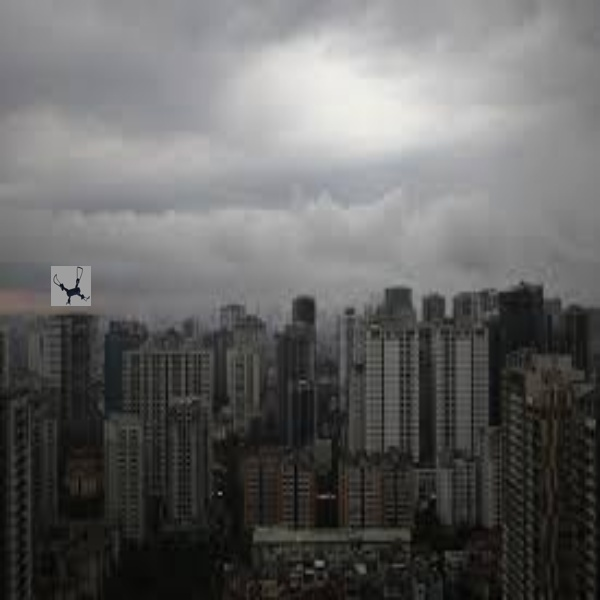drone: (47, 264, 92, 306)
